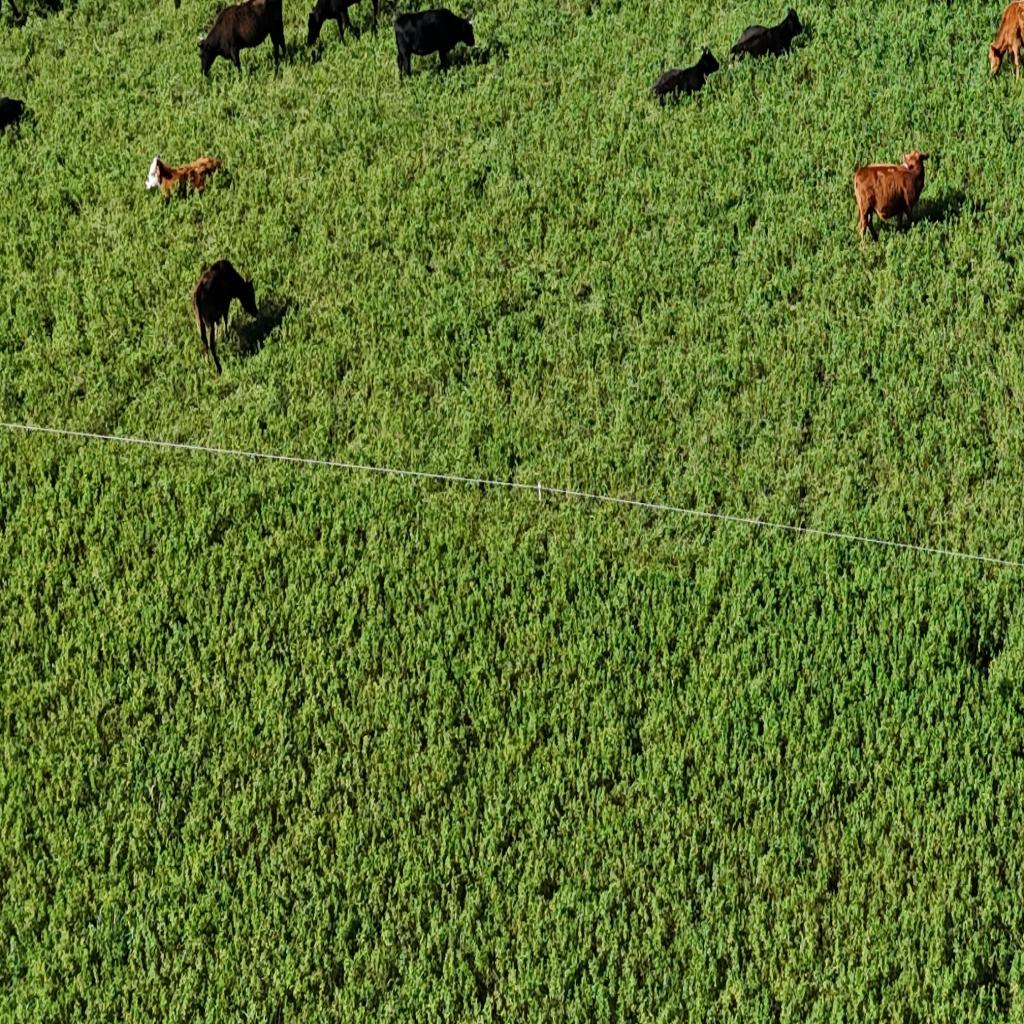cow: (190, 257, 258, 378), (852, 147, 929, 243), (196, 0, 284, 80), (392, 7, 477, 80), (728, 7, 804, 64), (649, 47, 719, 107), (147, 153, 221, 201), (988, 2, 1024, 81), (4, 0, 66, 28), (0, 95, 26, 138)
